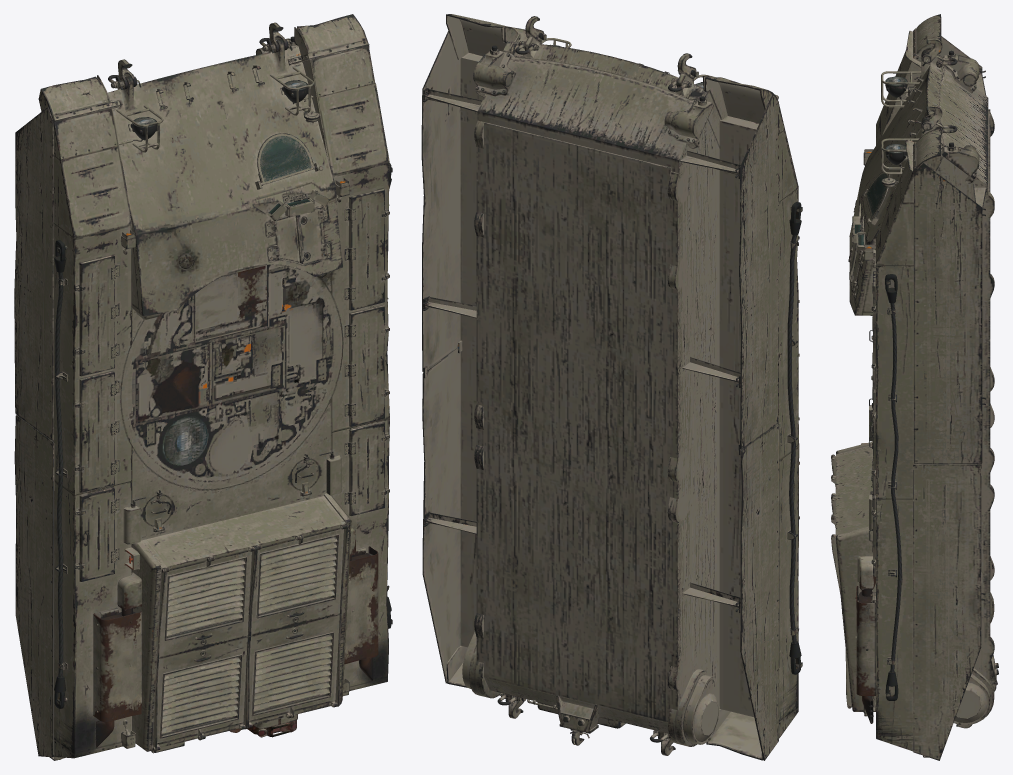
The model's file is Hull.glb.
The picture shows the model from 3 angles, left to right: view 1: azimuth 30°, elevation 25°; view 2: azimuth 150°, elevation 25°; view 3: azimuth 270°, elevation 25°; orthographic projection. The views are drawn at different scales.
Parts seen in each view (by area): view 1: set_0_group_0; view 2: set_0_group_0; view 3: set_0_group_0.
Boxes of the visible parts, left/top/right/bottom form: set_0_group_0: left=14, top=14, right=392, bottom=760; set_0_group_0: left=421, top=14, right=802, bottom=760; set_0_group_0: left=831, top=14, right=998, bottom=760.
Bounding box in the file's own units: 3.11 × 6.03 × 1.48.
1 material, 1 textured.
